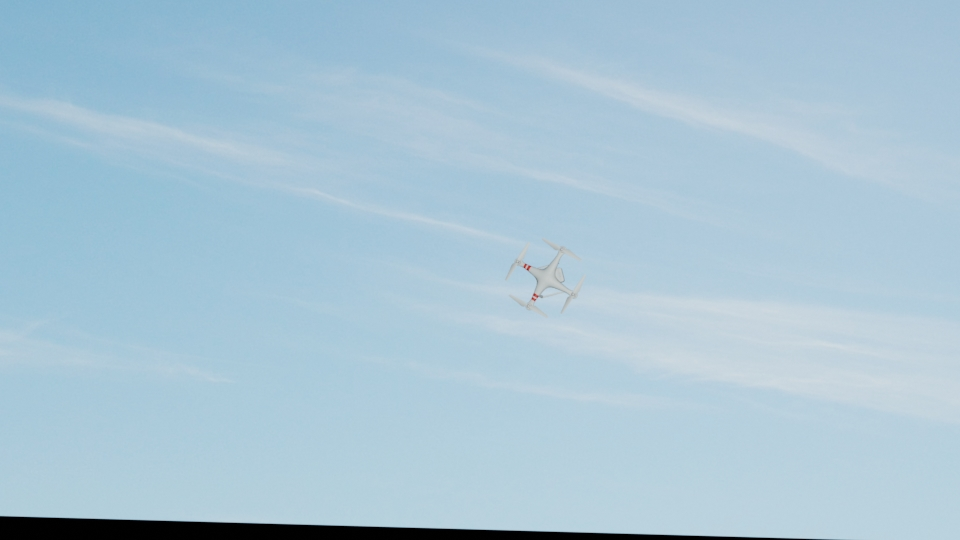drone: (503, 237, 580, 315)
